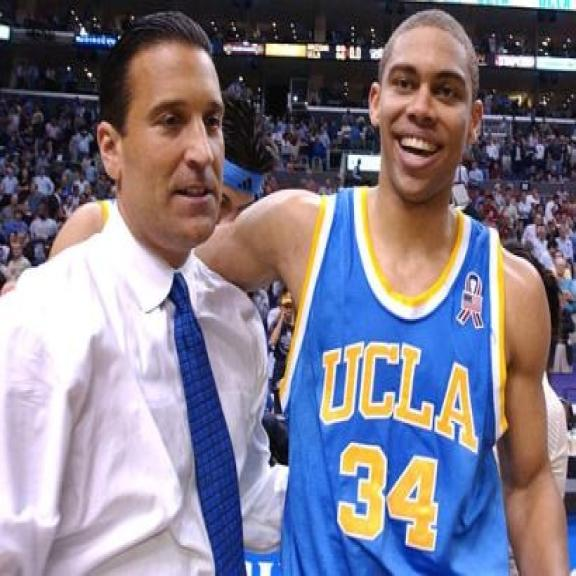face: (95, 52, 226, 244), (364, 43, 490, 205), (280, 296, 293, 325), (8, 234, 23, 257), (37, 204, 50, 226), (555, 257, 568, 277), (556, 225, 570, 243), (534, 210, 546, 228), (538, 223, 547, 239), (520, 192, 529, 207), (501, 197, 512, 209), (23, 166, 31, 182), (13, 195, 20, 208), (6, 166, 13, 177), (40, 170, 46, 178)
